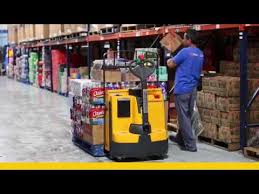Pallet Jack: (73, 47, 173, 162)
